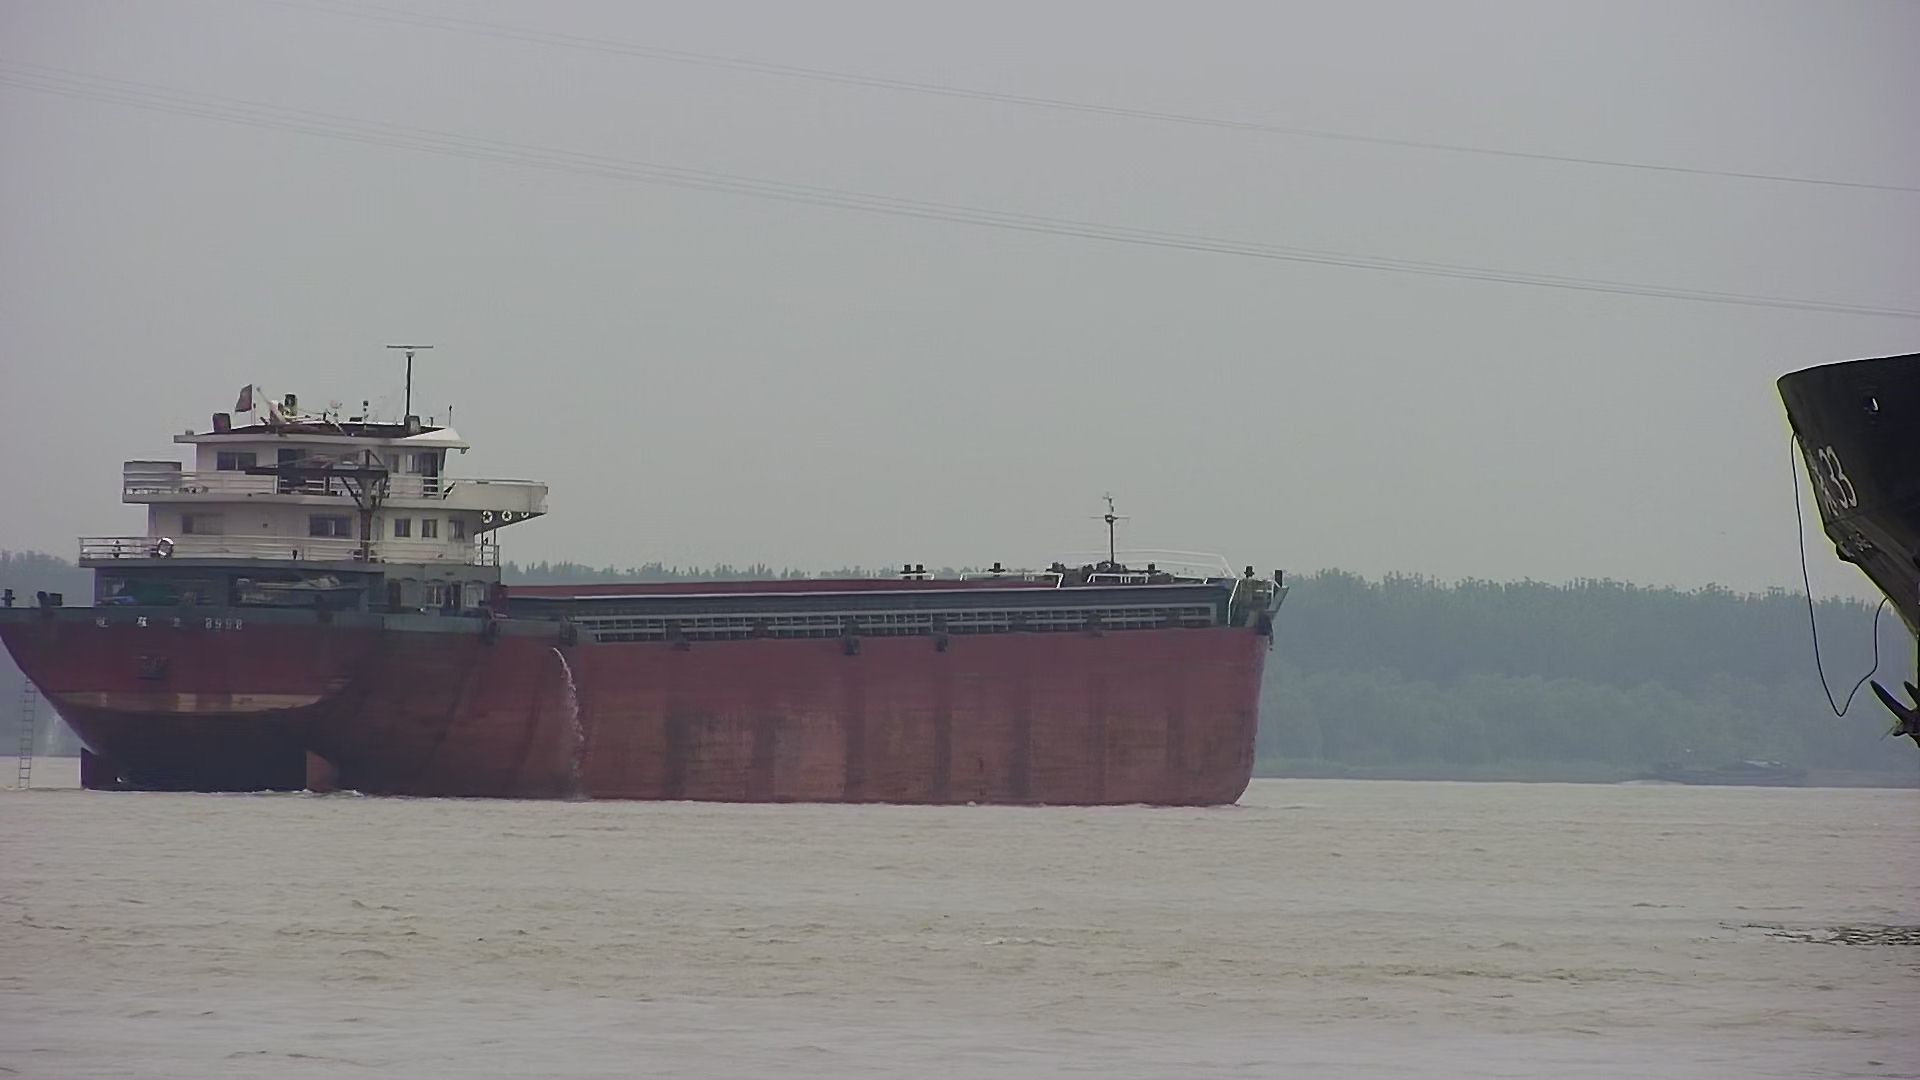ship: (5, 377, 1291, 822), (1764, 344, 1920, 934)
